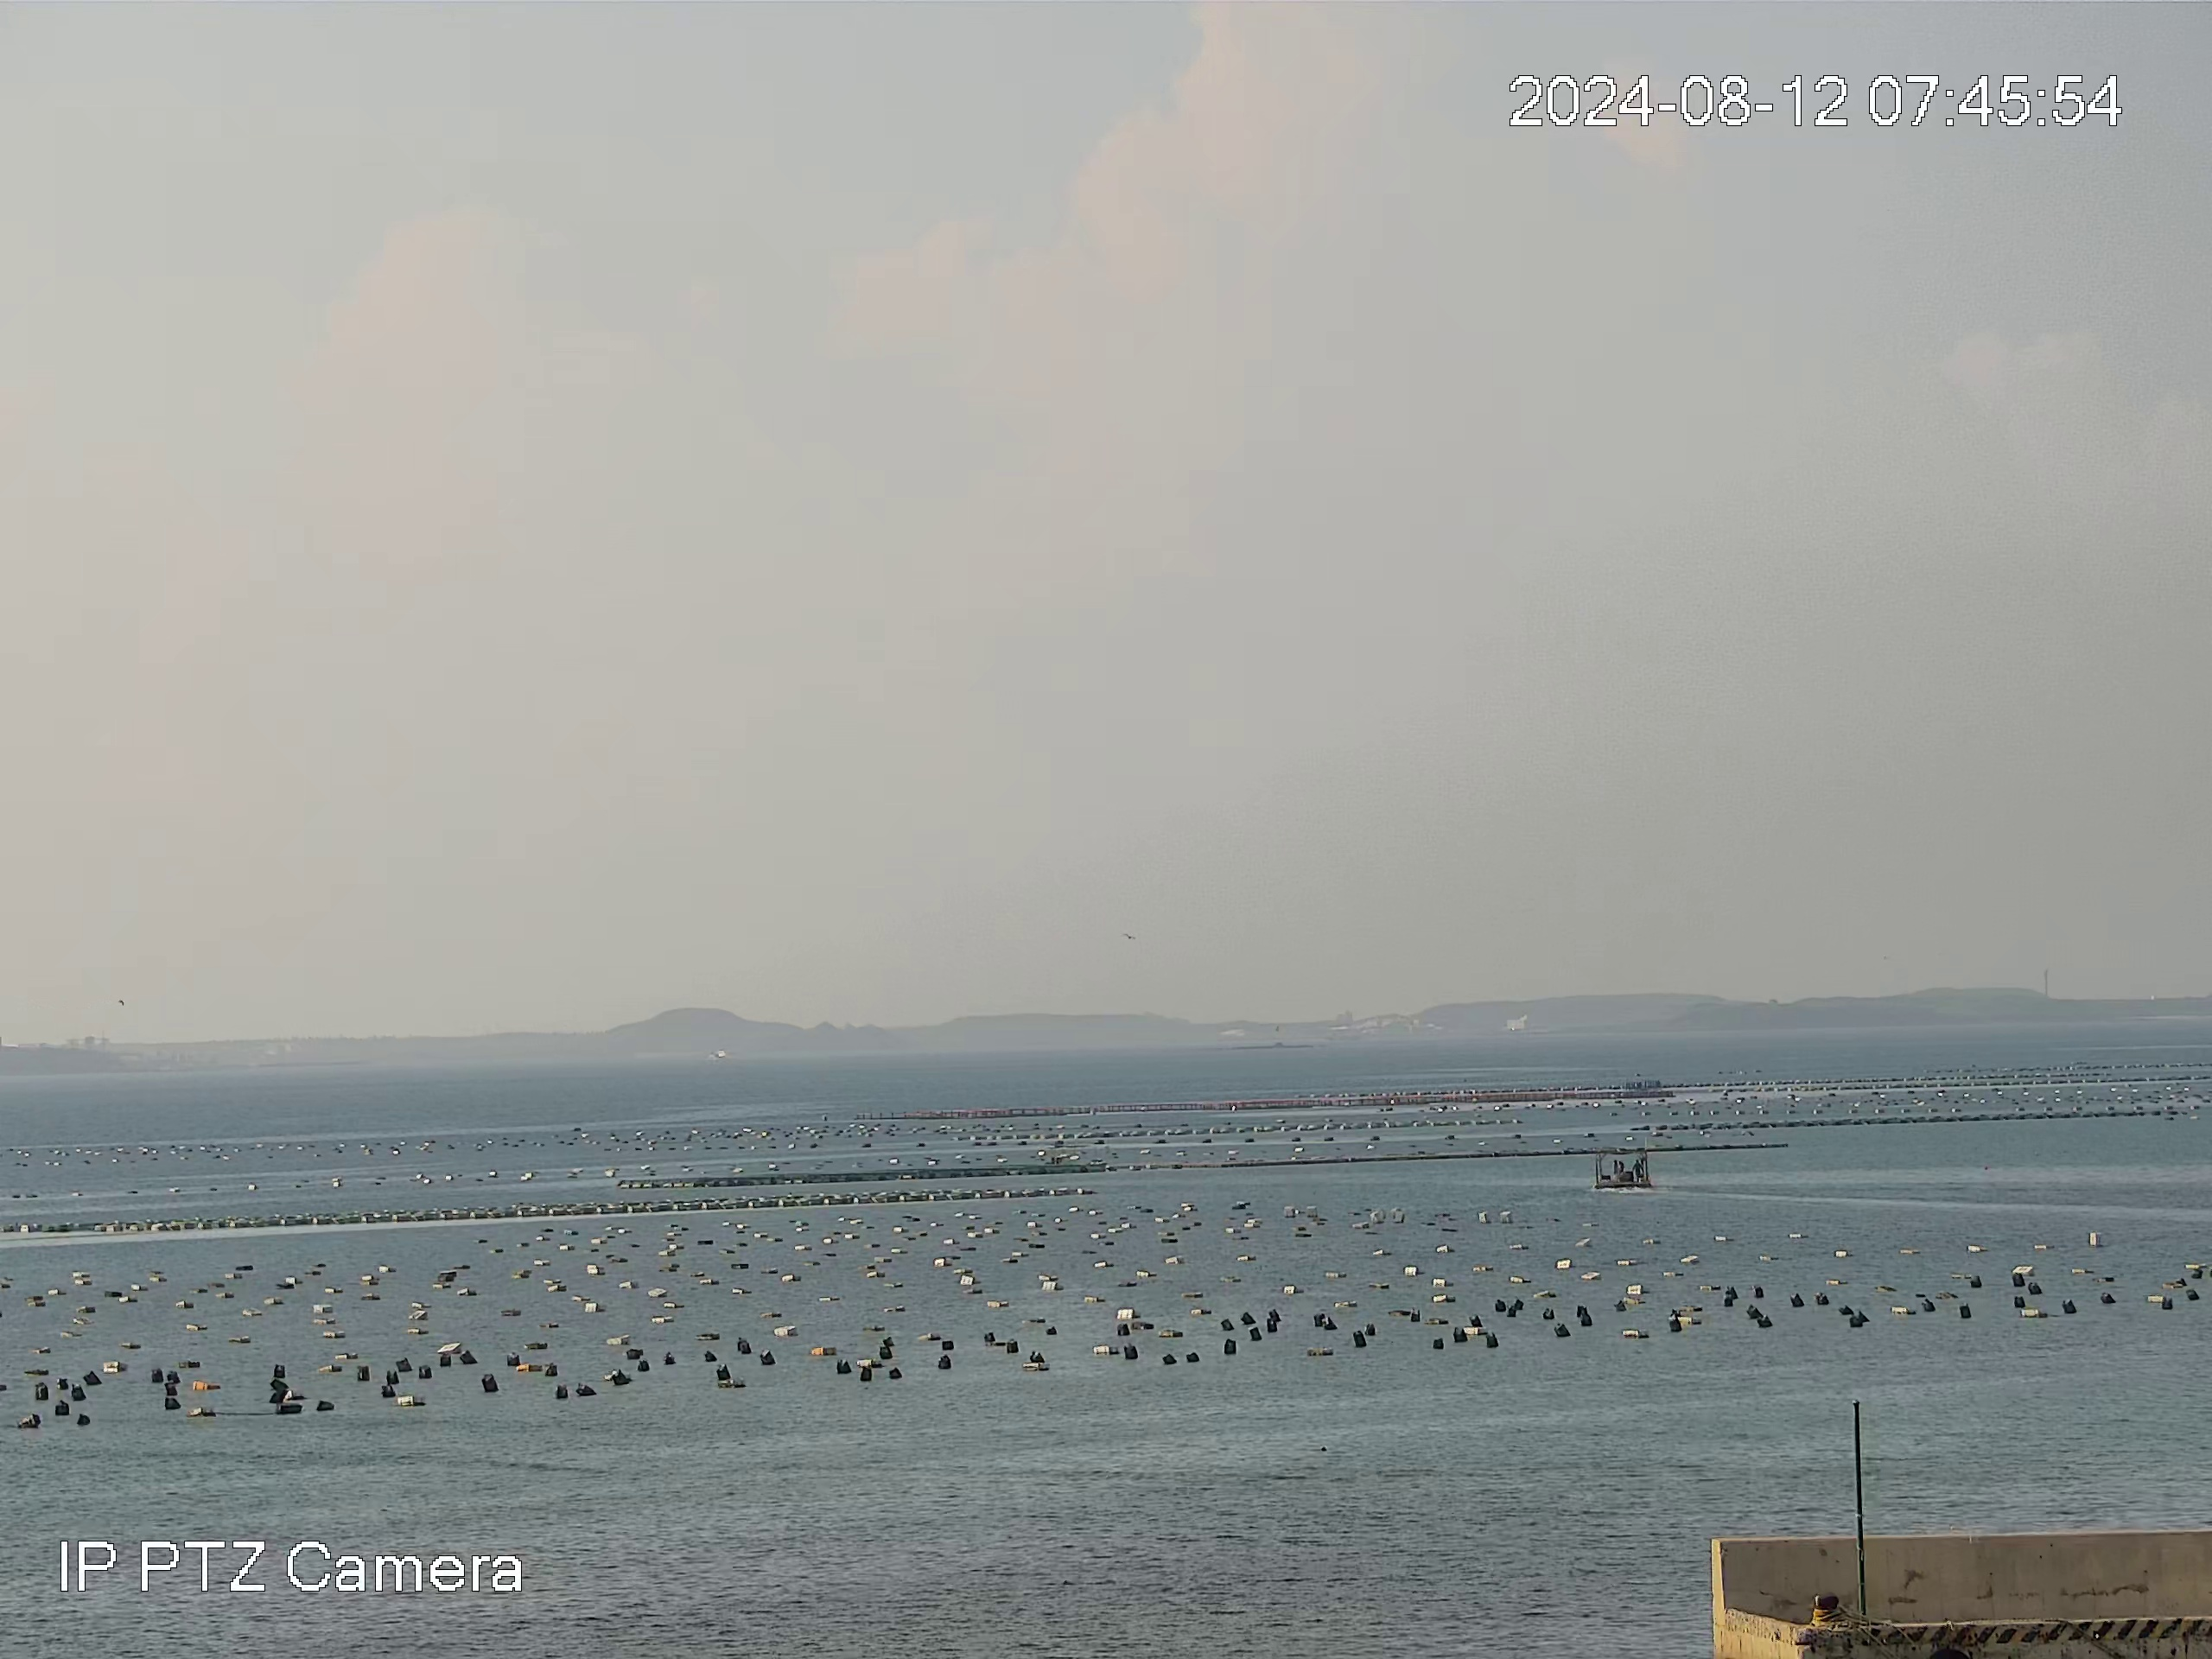boat: (1592, 1148, 1656, 1188)
